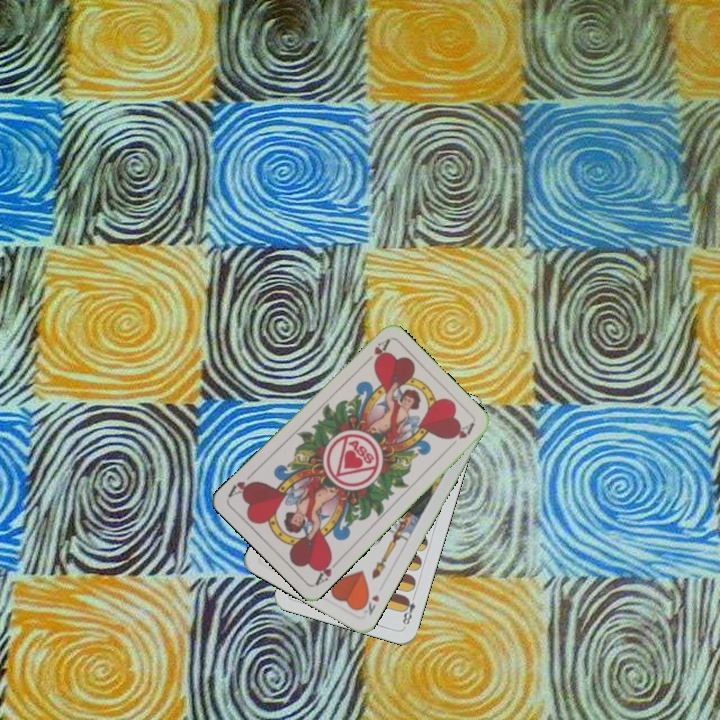E8: (398, 590, 419, 627)
HA: (311, 553, 343, 588), (359, 336, 392, 368)
HK: (356, 590, 382, 618)
